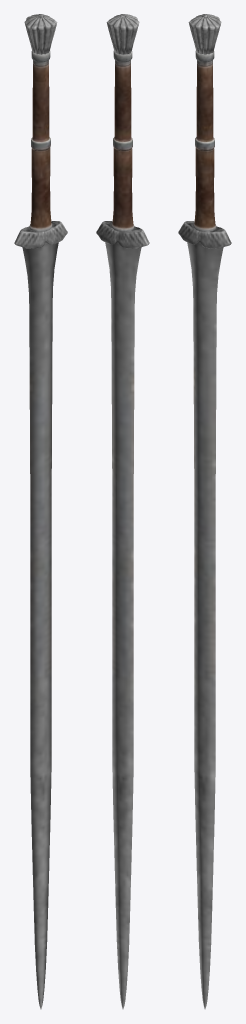
Rendered from weapon-wp_a_1681.glb.
3 views of the same model, side by side, from view 1: azimuth 30°, elevation 25°; view 2: azimuth 150°, elevation 25°; view 3: azimuth 330°, elevation 25° (orthographic).
Parts seen in each view (by area): view 1: wp_a_1681_mesh; view 2: wp_a_1681_mesh; view 3: wp_a_1681_mesh.
Part boxes in pixels (x1=…): wp_a_1681_mesh: x1=14, y1=14, x2=67, y2=1009; wp_a_1681_mesh: x1=96, y1=14, x2=149, y2=1009; wp_a_1681_mesh: x1=178, y1=14, x2=231, y2=1009.
Bounding box in the file's own units: 0.084 × 1.52 × 0.0449.
1 material, 1 textured.
